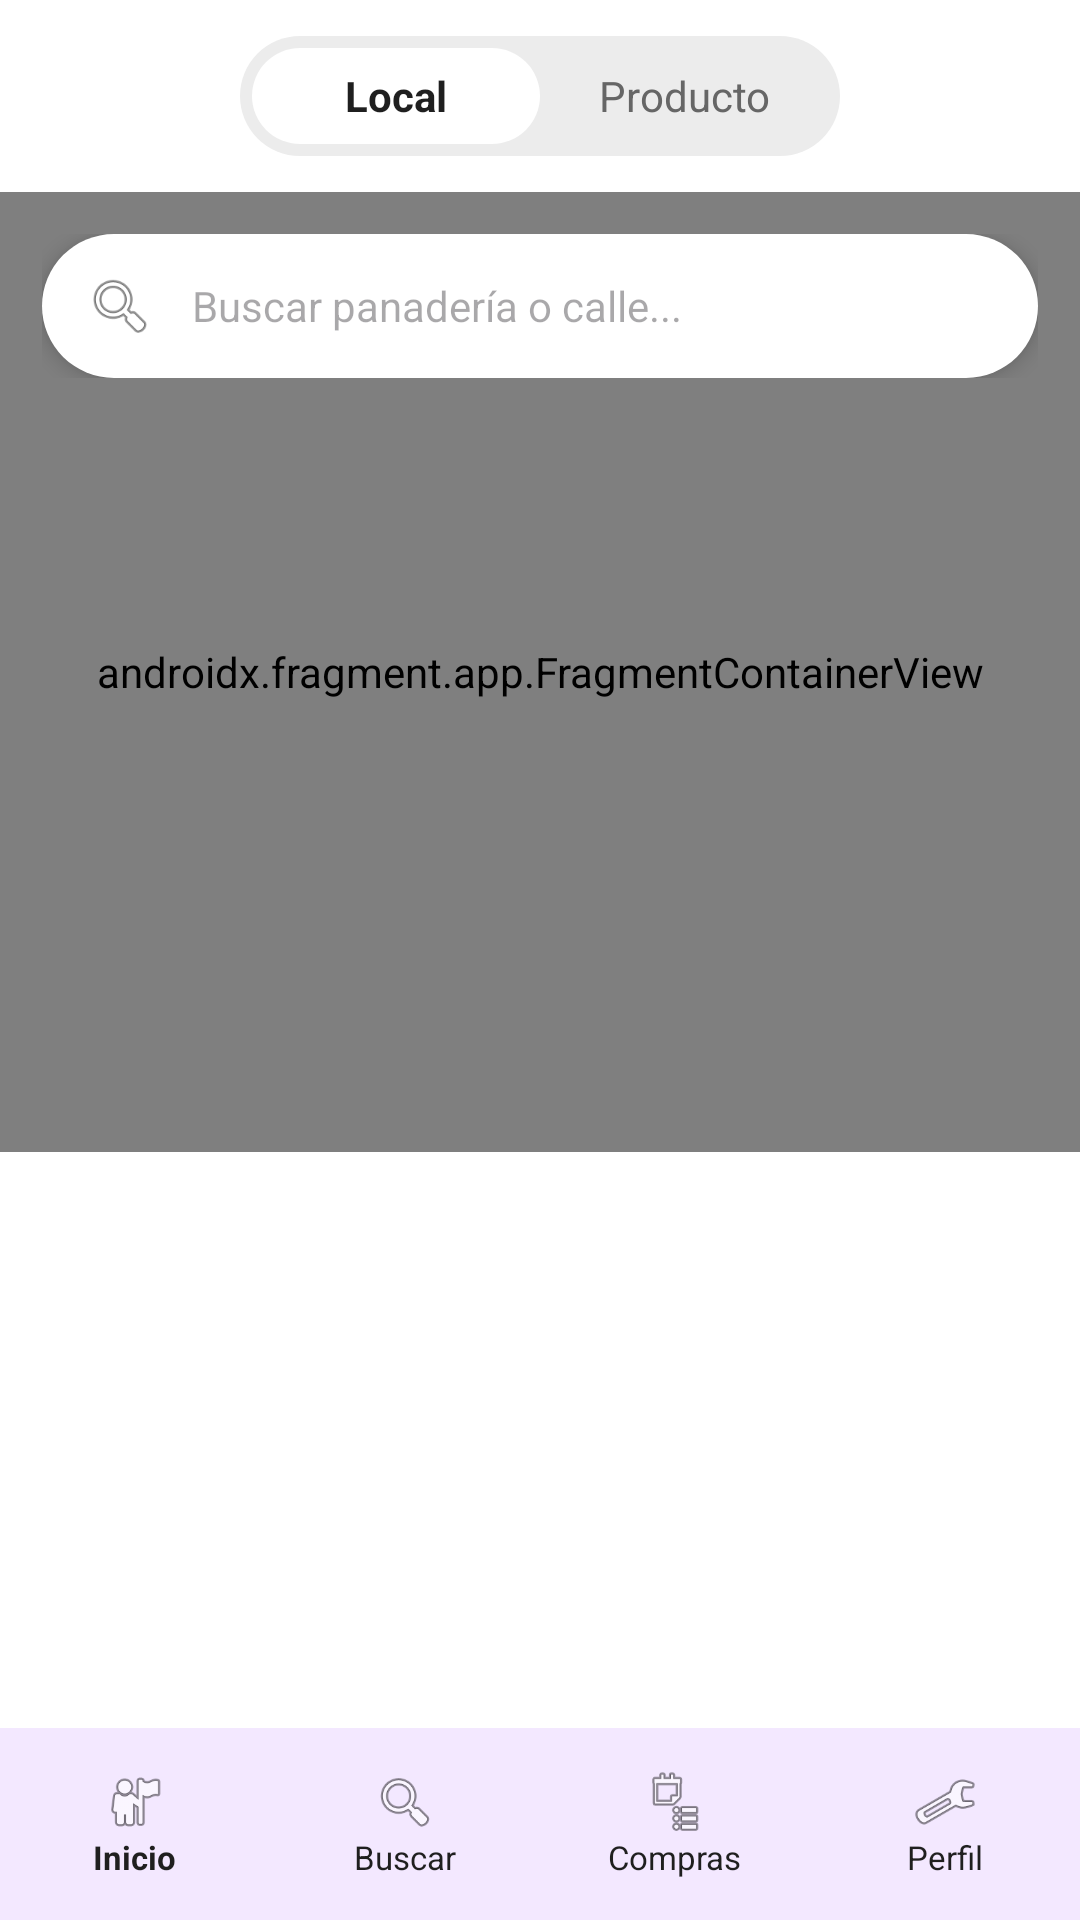

Named icons in this screenshot (1080 × 1920) and their centers, point (x, y):
agenda: point (675, 1801)
manage: point (945, 1802)
myplaces: point (136, 1802)
